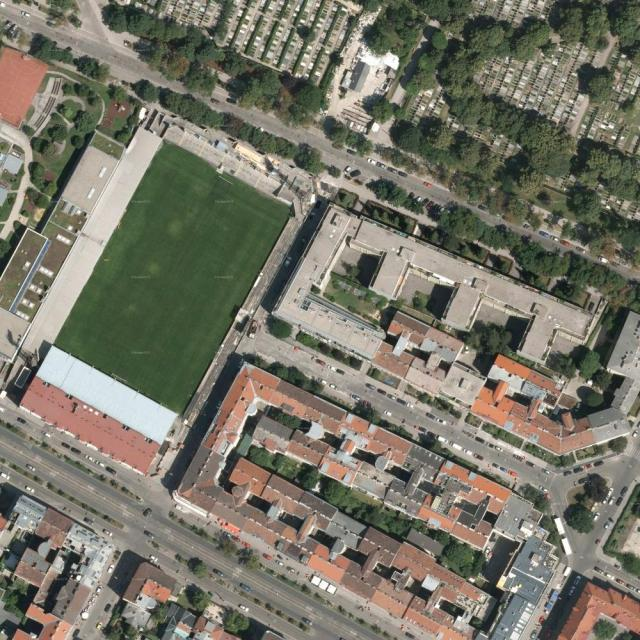building: (203, 361, 547, 592), (332, 217, 606, 377), (17, 125, 164, 362), (178, 210, 308, 430), (271, 204, 427, 367), (141, 89, 325, 222), (18, 375, 162, 477), (36, 345, 178, 445), (59, 143, 119, 215), (437, 344, 494, 409), (376, 313, 427, 382), (122, 559, 179, 618), (177, 444, 229, 505), (161, 604, 240, 639), (419, 325, 465, 366), (6, 492, 49, 535), (370, 340, 415, 380), (404, 365, 444, 397), (142, 578, 171, 600), (260, 630, 285, 639)
greenland: (415, 194, 640, 328), (243, 437, 451, 562), (376, 99, 552, 228), (423, 0, 508, 130), (25, 31, 113, 89), (241, 344, 327, 398), (54, 82, 102, 151), (501, 11, 557, 68), (315, 115, 376, 165), (461, 311, 516, 365), (365, 173, 429, 218), (403, 43, 450, 102), (435, 534, 489, 584), (575, 349, 621, 394), (572, 62, 617, 106), (559, 498, 601, 538), (101, 604, 146, 640), (359, 88, 399, 127), (379, 206, 419, 237), (178, 581, 214, 615), (218, 606, 253, 640), (29, 161, 46, 193), (431, 31, 448, 50), (49, 124, 64, 142)
metalled_road: (235, 317, 468, 452), (566, 425, 640, 593), (318, 146, 461, 220), (503, 189, 609, 274), (213, 96, 331, 153), (466, 430, 558, 498), (317, 141, 369, 179), (476, 203, 506, 229), (549, 328, 581, 352), (451, 427, 476, 449), (574, 556, 606, 572), (502, 264, 521, 280), (279, 346, 287, 356)
